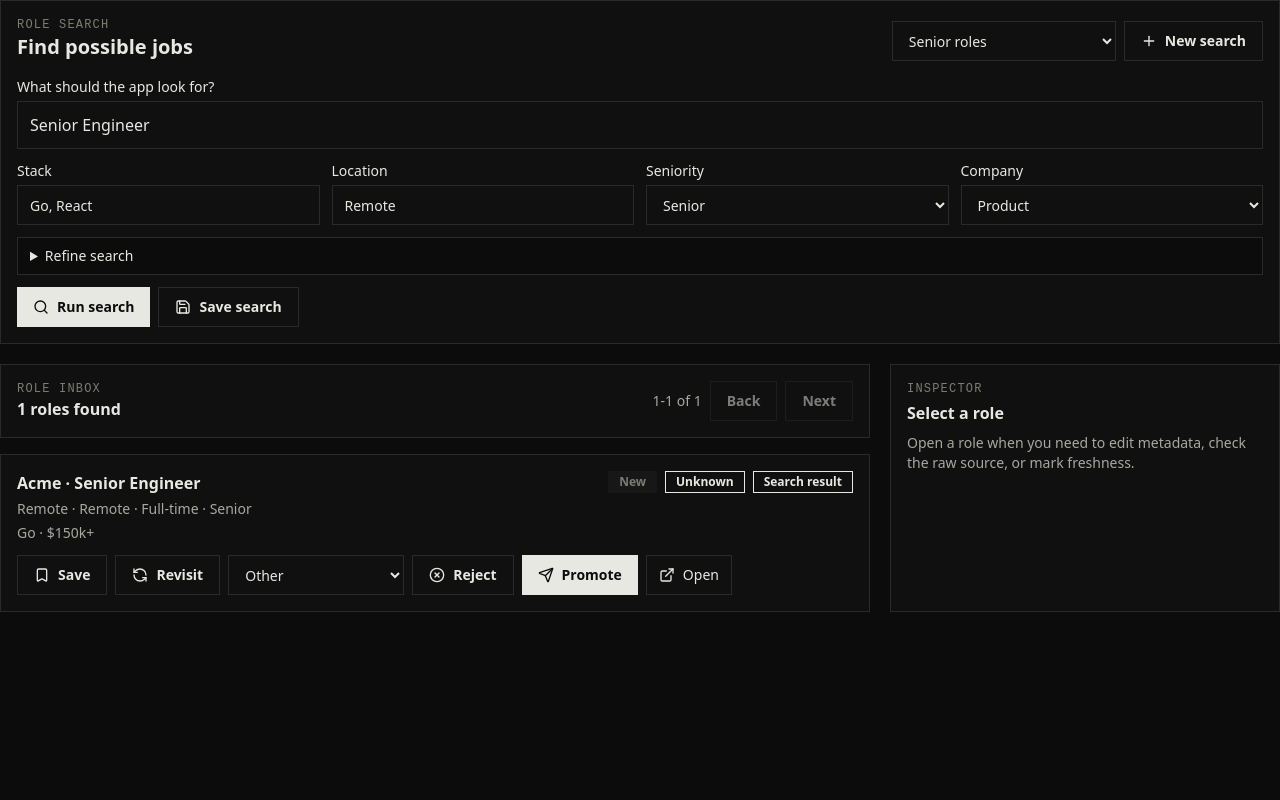
Scenario: RoleDiscoveryWorkspace › runs search, updates decisions, and promotes roles
expect the heading "Acme · Senior Engineer" is shown: met, box [17,472,200,494]
What coordinates should you click on to do the following:
click the button "Run search"
I would click on:
 (84, 307)
Its box is [17,287,150,327].
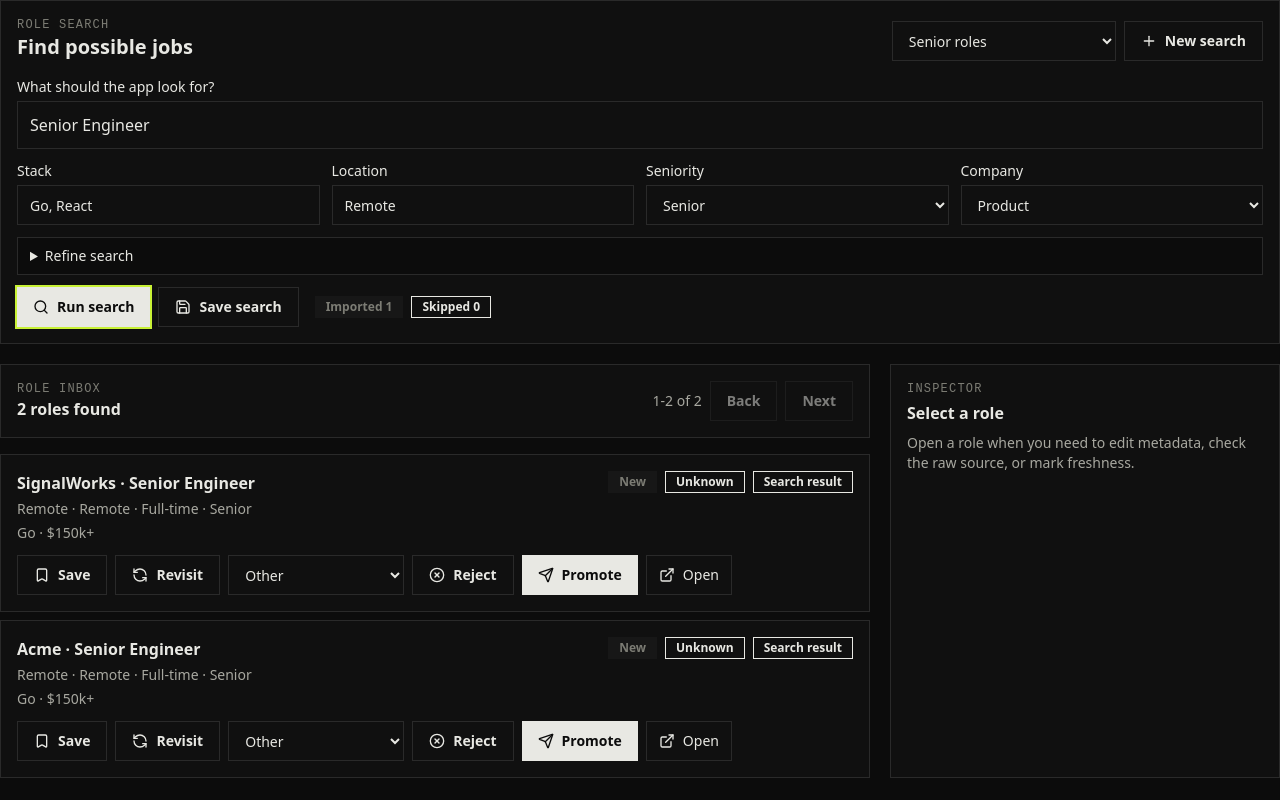
expect the text "Acme · Senior Engineer" is shown: met, box [0,620,870,778]
expect the text "Imported 1" is shown: met, box [315,296,404,318]
expect the heading "SignalWorks · Senior Engineer" is shown: met, box [17,471,255,495]
What coordinates should you click on to do the following:
click the 2nd button "Save"
I would click on:
 (62, 741)
Its box is [17,721,107,761].
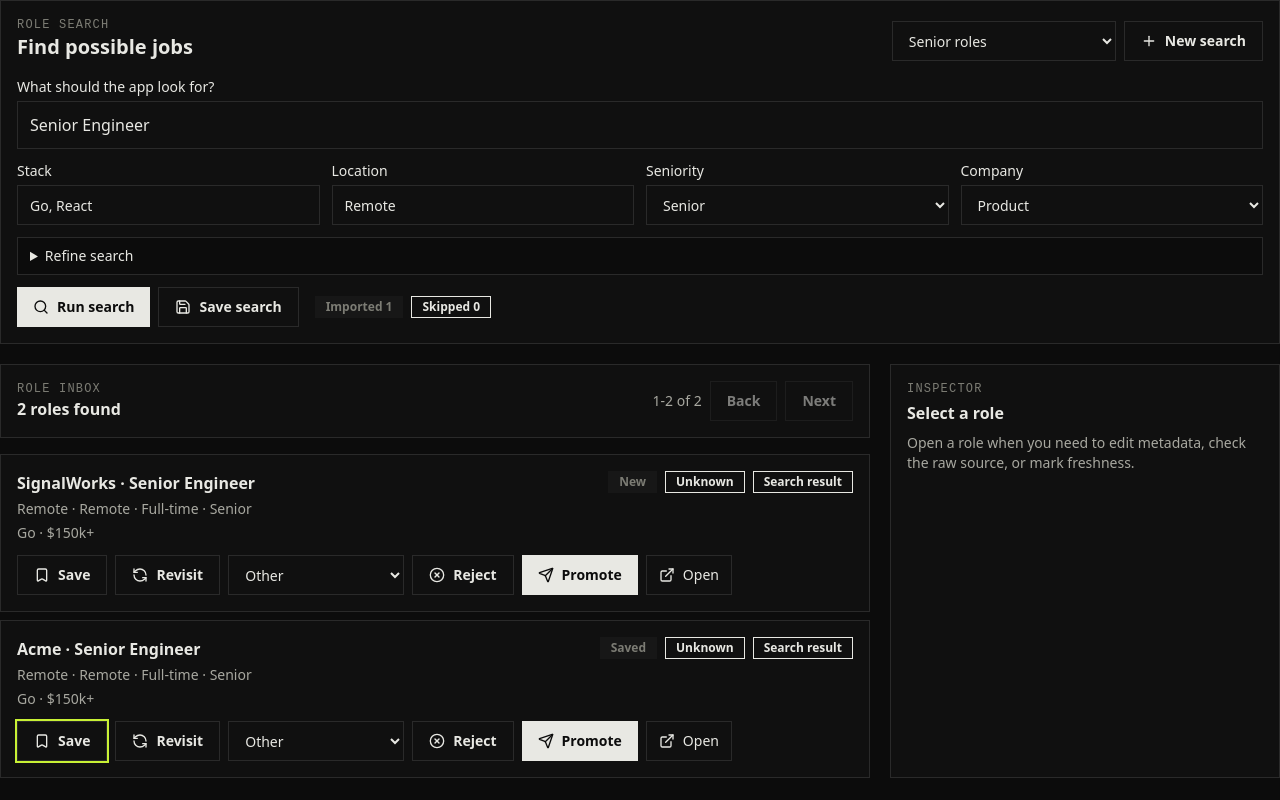
expect the text "Saved" is shown: met, box [600,637,657,659]
What coordinates should you click on to do the following:
click the button "Promote" below "Saved"
I would click on:
 (580, 741)
Its box is [522,721,638,761].
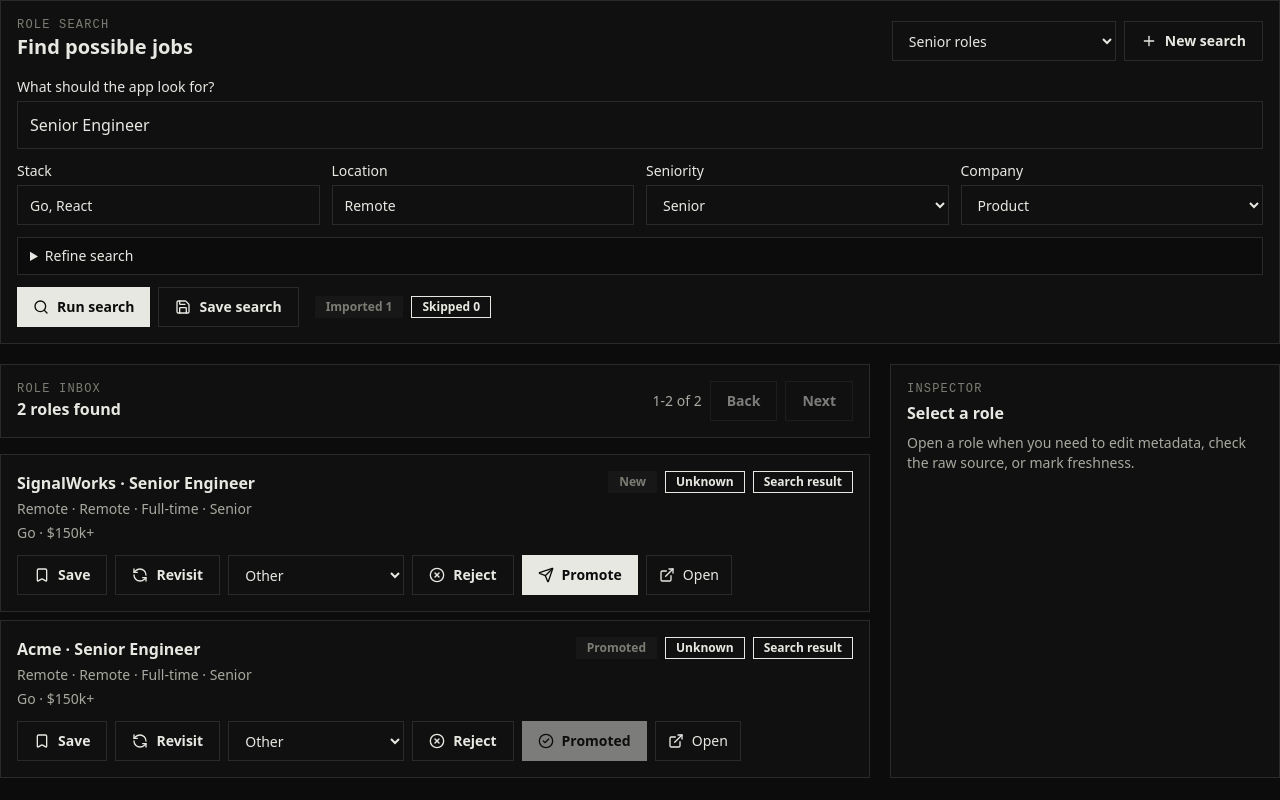
expect the button "Promoted" is disabled: met, box [522,721,647,761]
